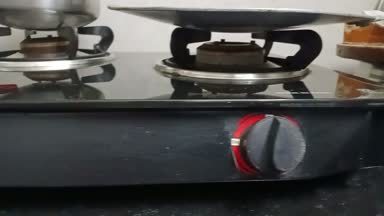noflame_gason: (161, 27, 350, 181)
